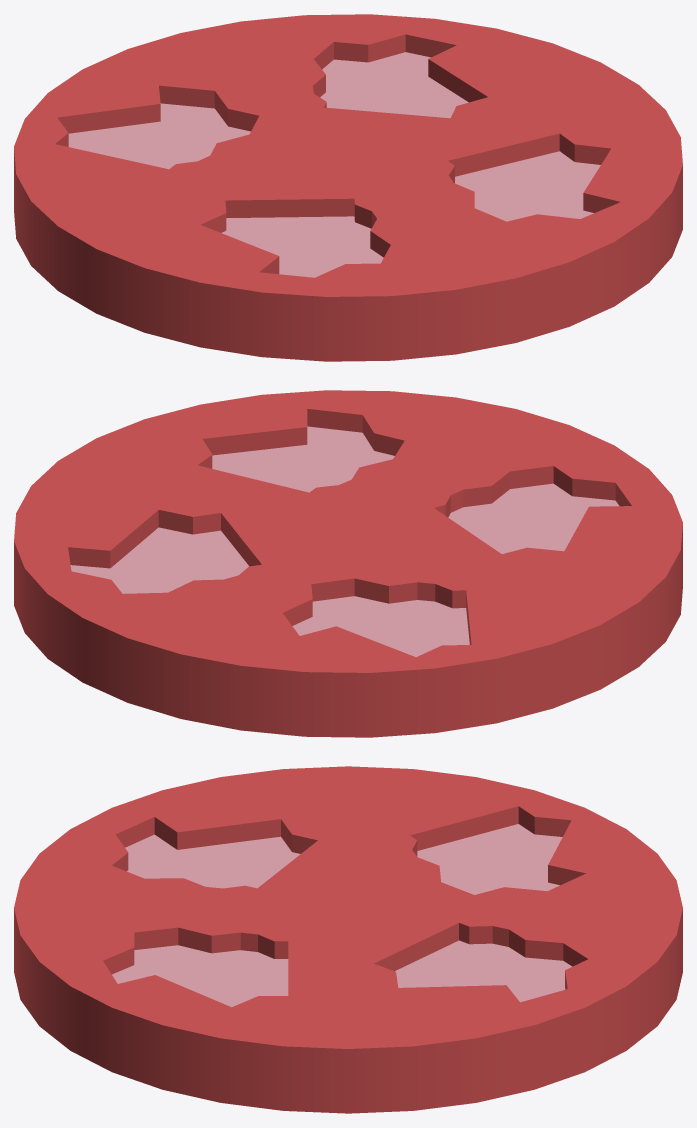
Rendered from Tomato.fbx.
3 views of the same model, one above another, from view 1: azimuth 30°, elevation 25°; view 2: azimuth 150°, elevation 25°; view 3: azimuth 270°, elevation 25° (orthographic).
Visible parts, largest first — view 1: TomatoSlice; view 2: TomatoSlice; view 3: TomatoSlice.
Part boxes in pixels (bbox=[...]): TomatoSlice: bbox=[14, 14, 682, 361]; TomatoSlice: bbox=[14, 390, 682, 737]; TomatoSlice: bbox=[14, 766, 682, 1113].
Bounding box in the file's own units: 0.2046 × 0.0218 × 0.2046.
